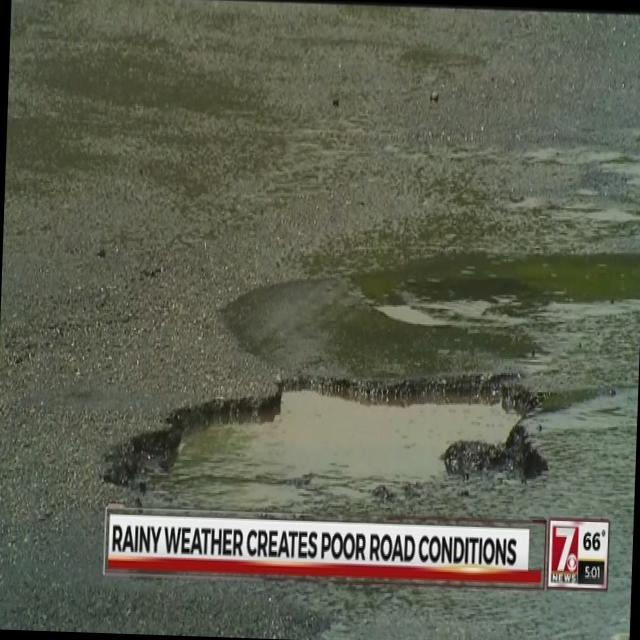Potholes: (91, 340, 578, 596), (364, 154, 640, 332)
